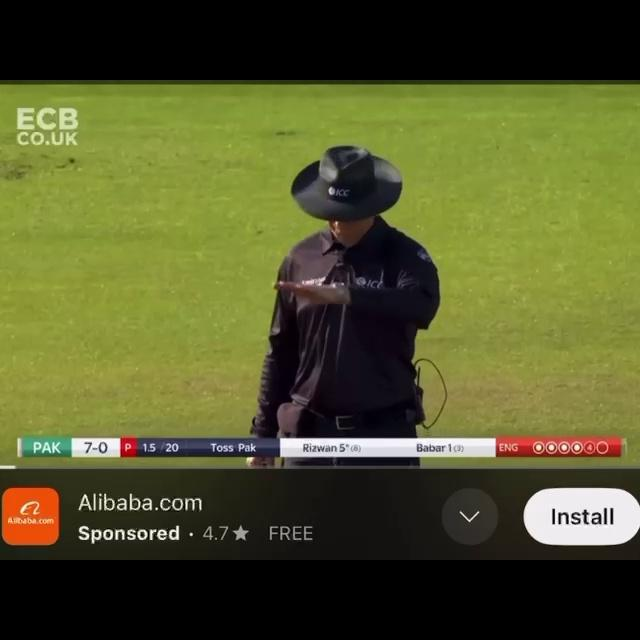umpire: (177, 124, 508, 424)
